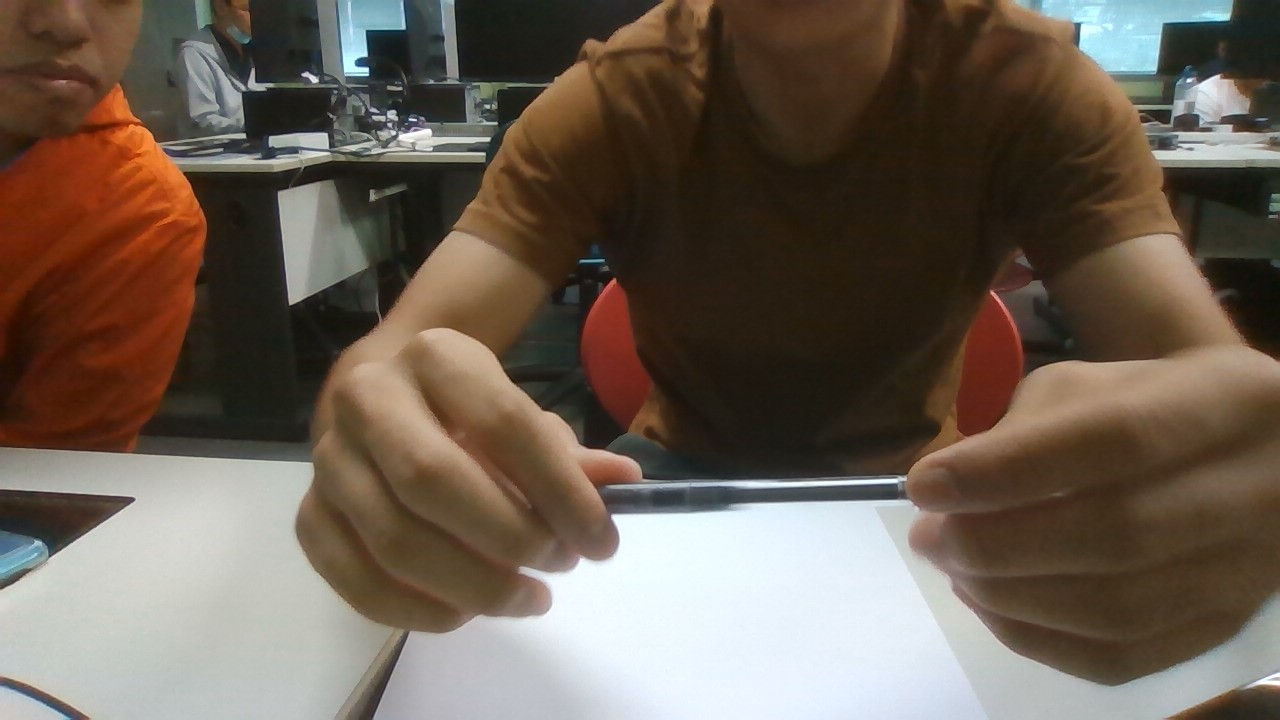pen: (544, 475, 963, 510)
